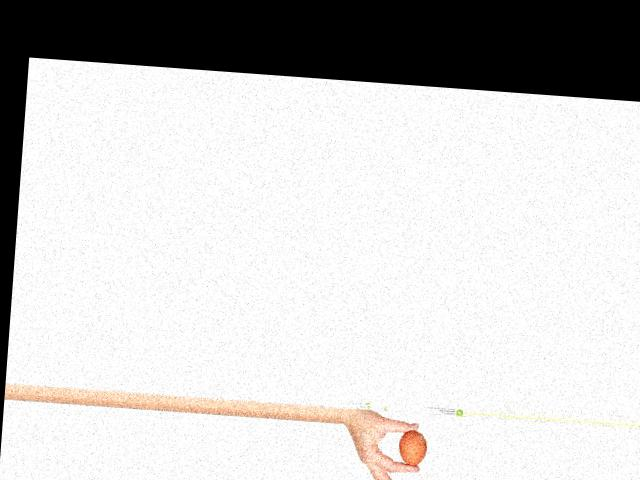egg: (397, 428, 427, 466)
